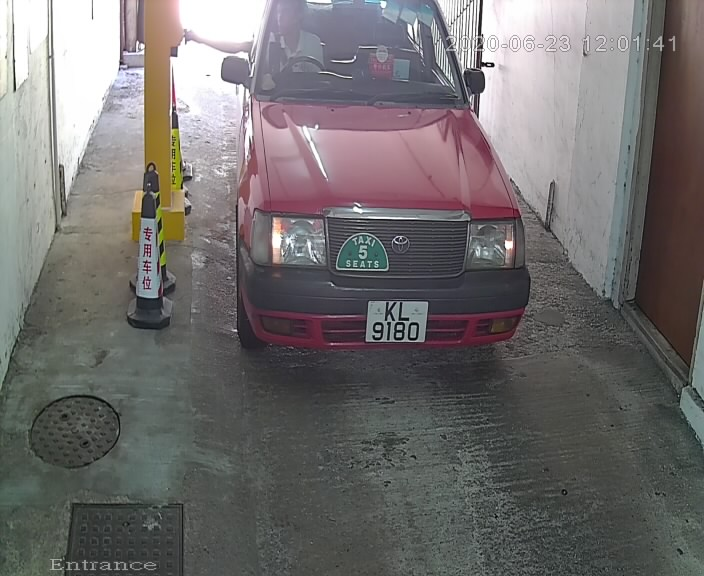taxi: (214, 1, 531, 384)
taxi_mark: (328, 230, 398, 277)
